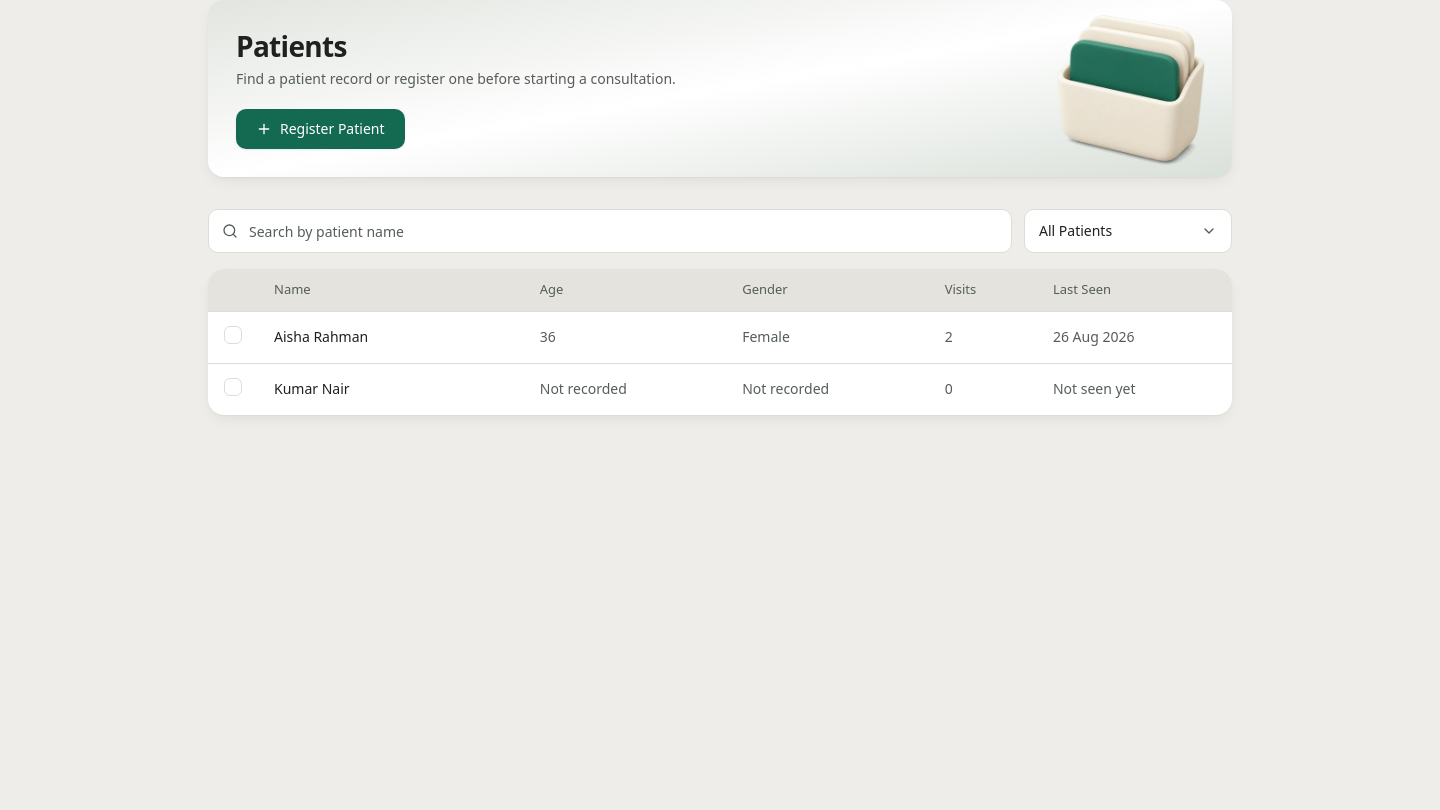
Test case: erasing patients › says erased rather than deleted, and says the audit record survives
Expected: the link "Aisha Rahman" is shown, 274,327 -> 368,347
Step 1. Click the checkbox named "Select Aisha Rahman" → (233,335), box 224,326 -> 242,344
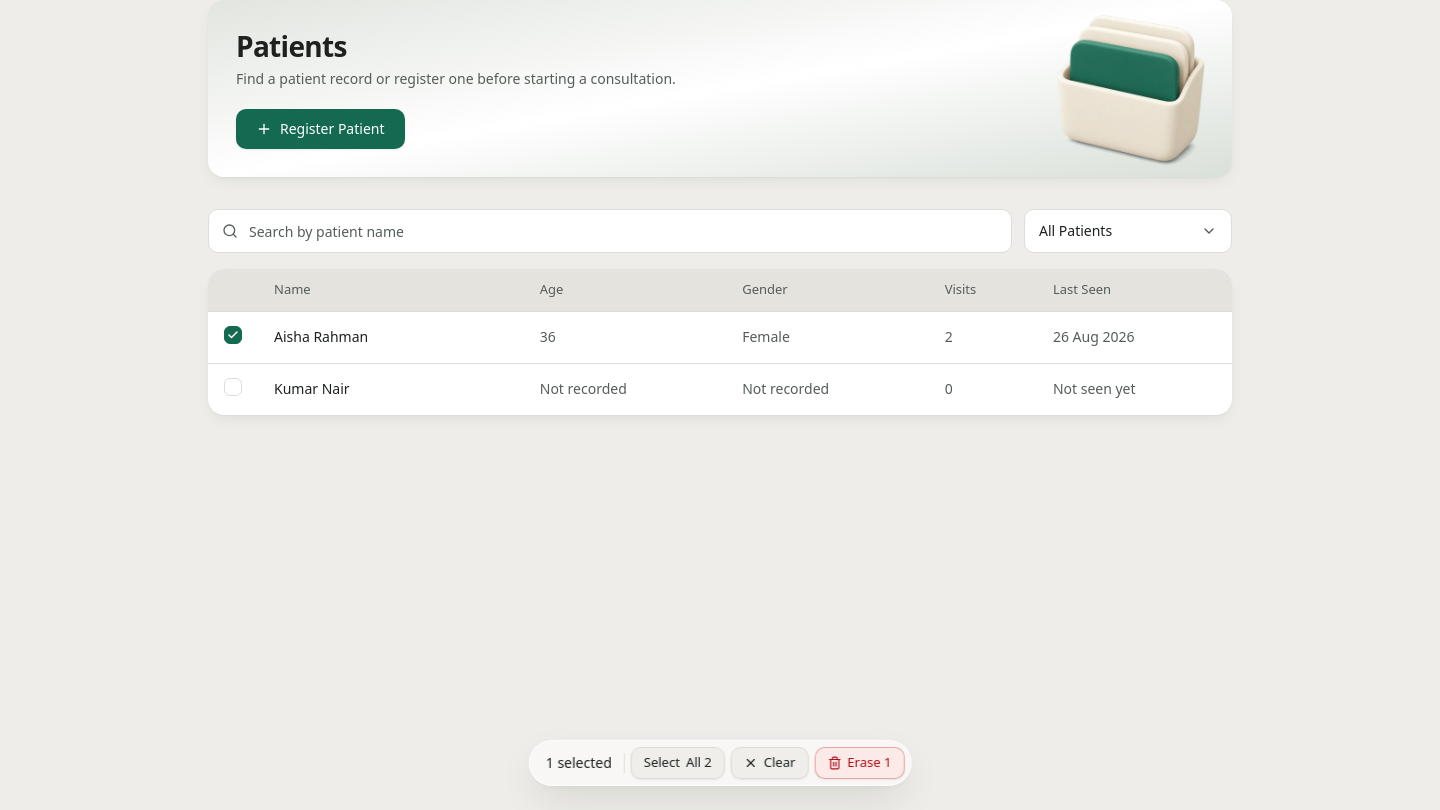
Step 2. Click the button "Erase 1" → (859,763), box 814,747 -> 904,779
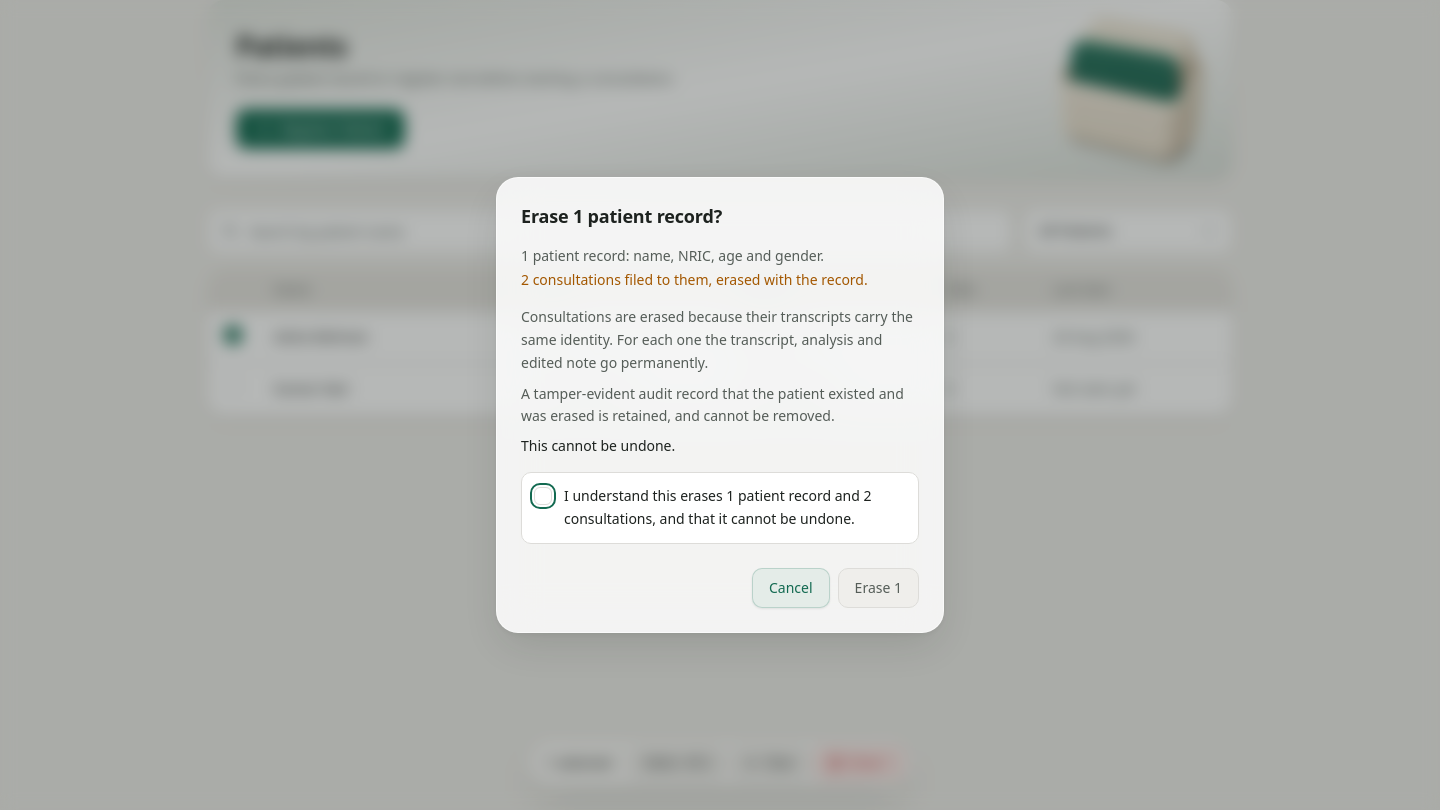
Expected: the text "cannot be removed" is shown, 521,384 -> 904,425
Expected: the text "This cannot be undone." is shown, 521,436 -> 675,455
